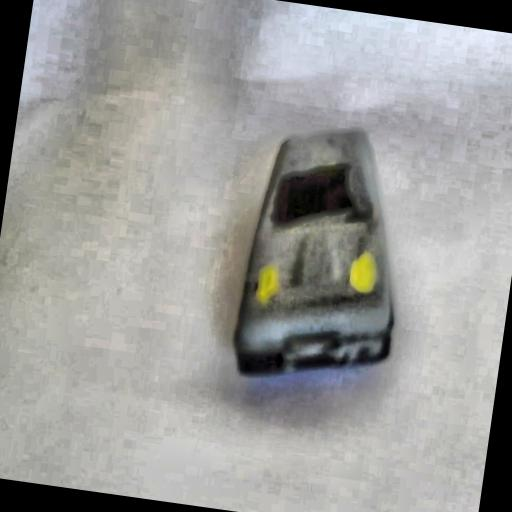normal_car: (224, 108, 424, 407)
